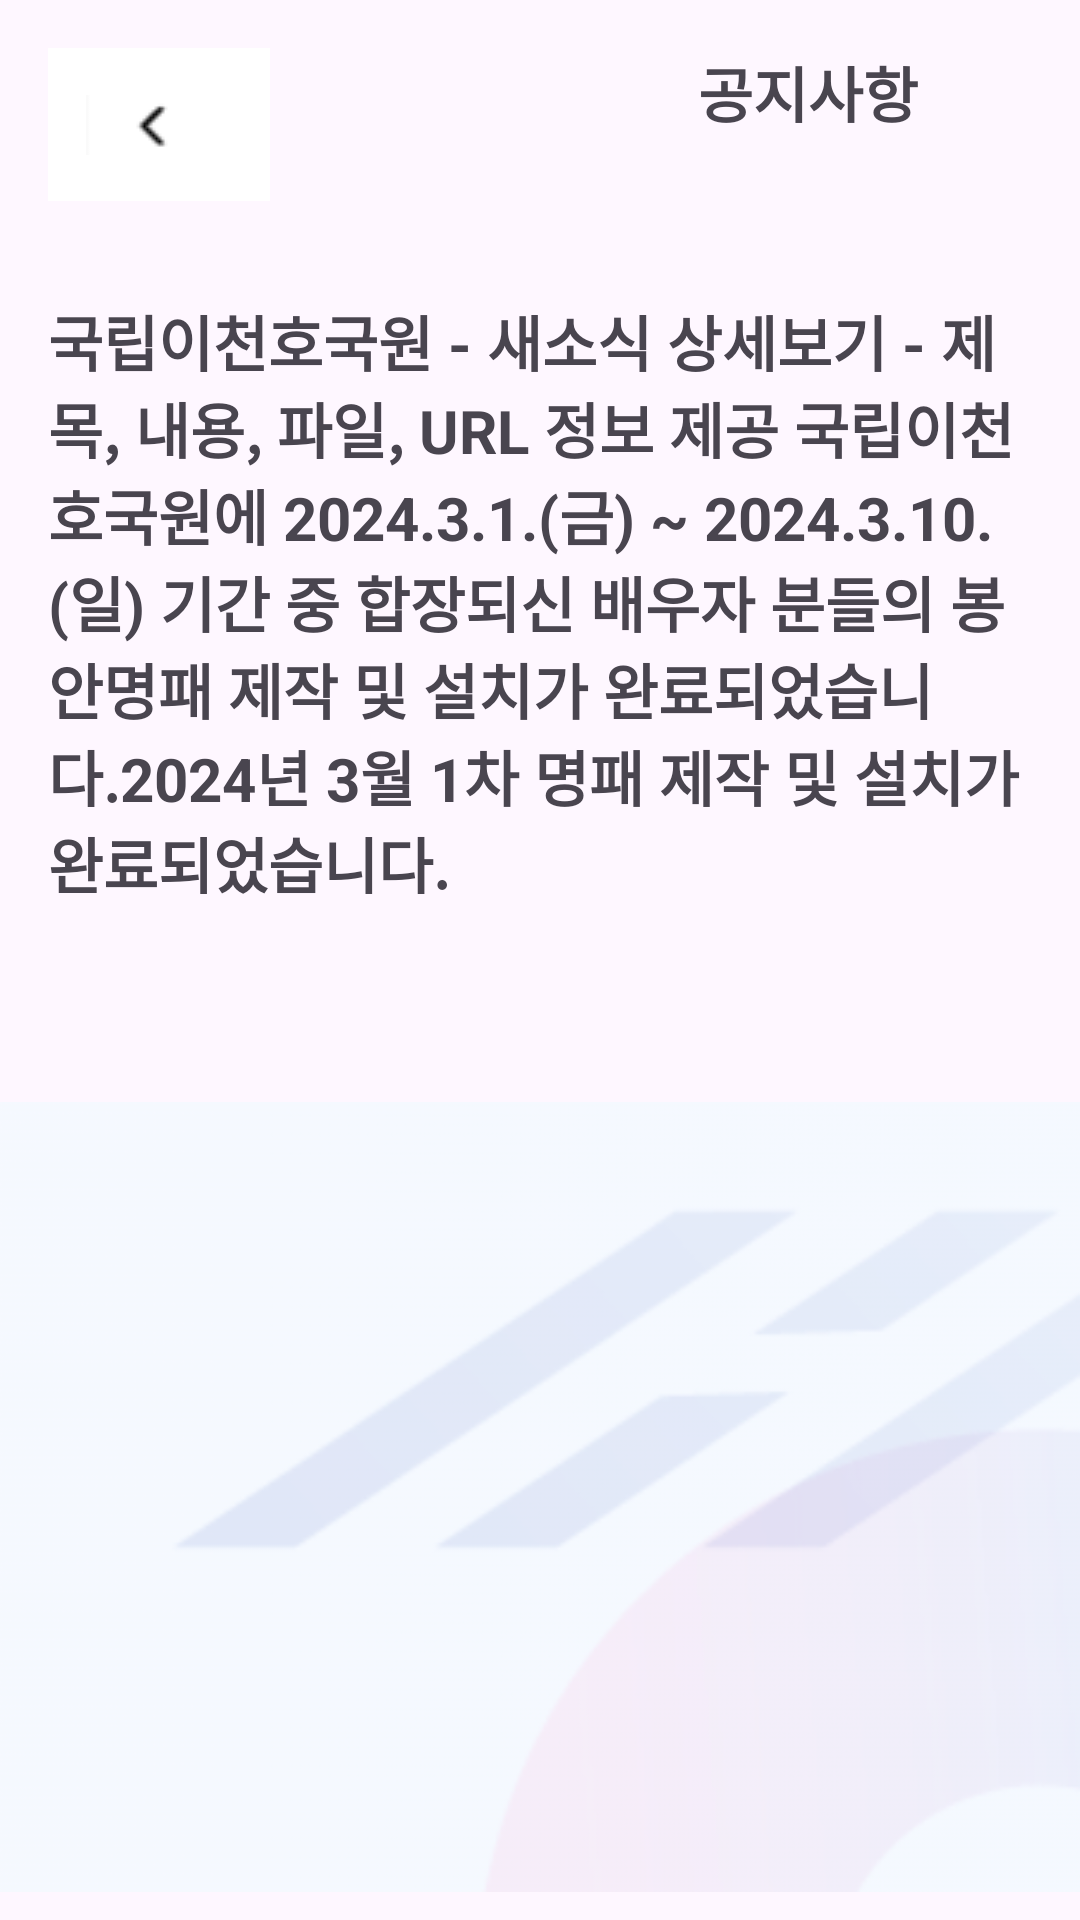

Point at icon controls on the screen. Image size 1080x1920, points as (x,y).
back: (152,126)
